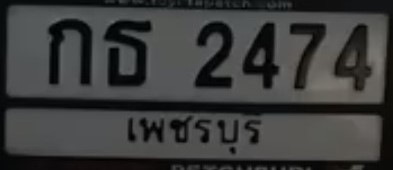txt01: (45, 17, 94, 87)
txt19: (101, 18, 154, 89)
